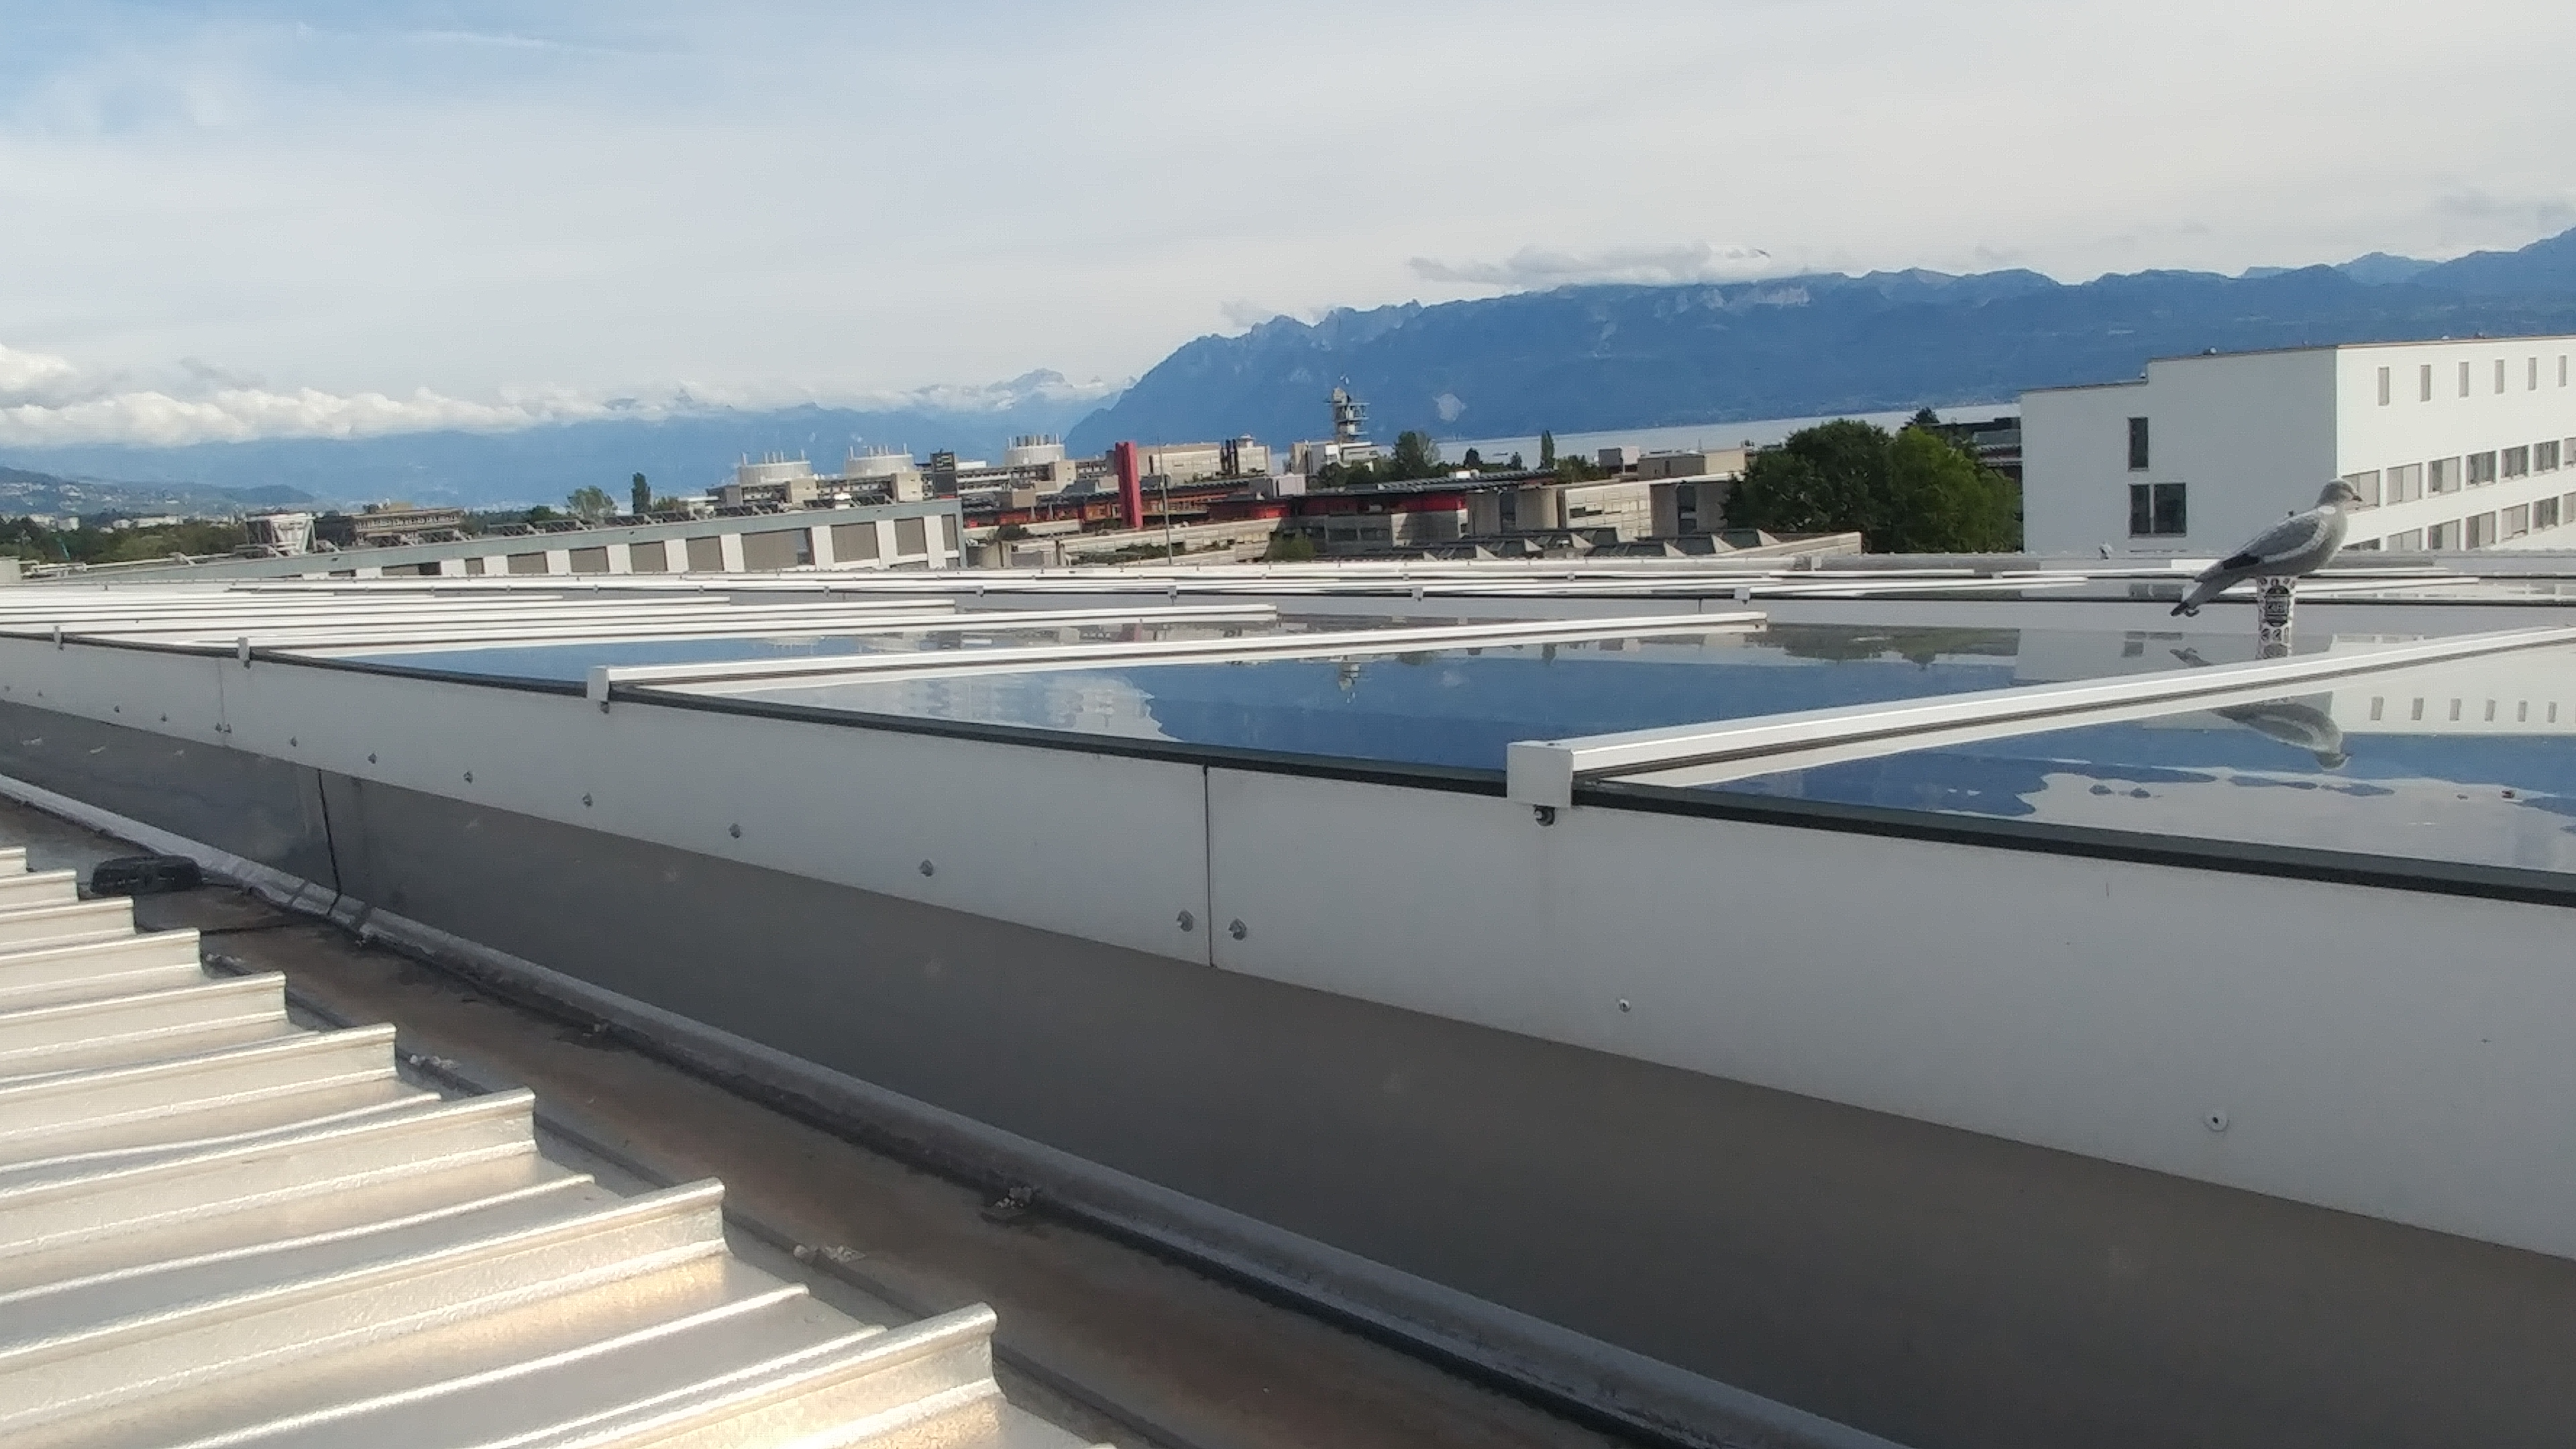Pigeon: (2174, 488, 2353, 609)
